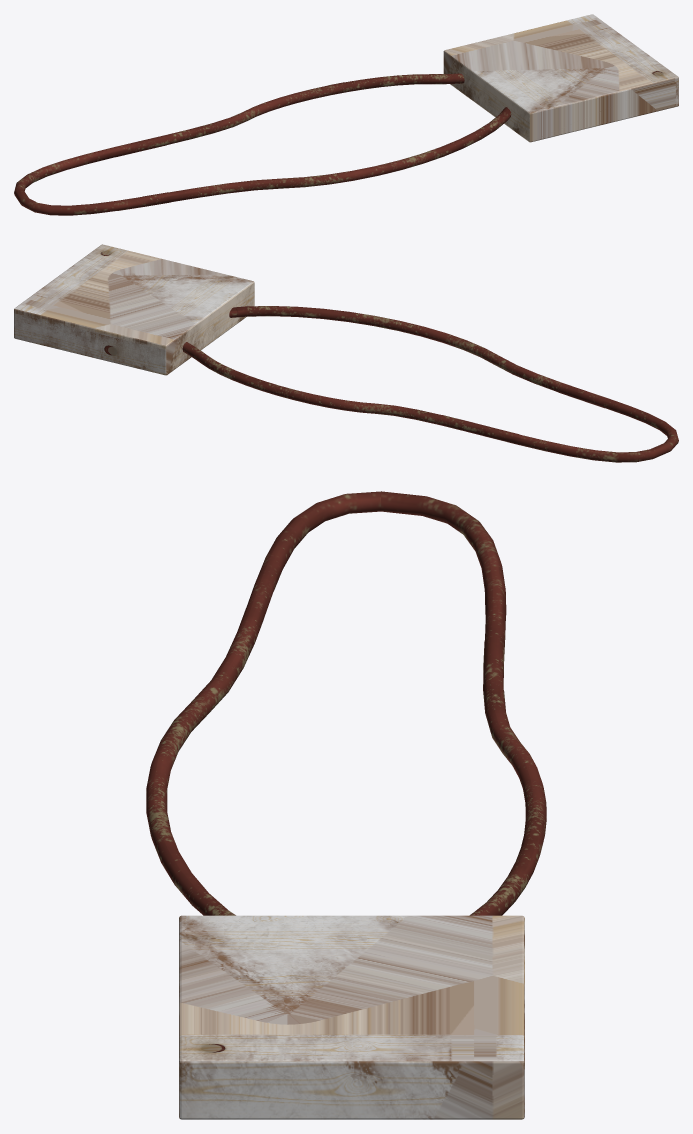
The model's file is talisman_carr_.fbx.
The picture shows the model from 3 angles, top to bottom: view 1: azimuth 30°, elevation 25°; view 2: azimuth 150°, elevation 25°; view 3: azimuth 270°, elevation 25°; orthographic projection. The views are drawn at different scales.
Parts seen in each view (by area): view 1: talisman carré; view 2: talisman carré; view 3: talisman carré.
Boxes of the visible parts, bbox=[...] form: talisman carré: bbox=[14, 14, 678, 215]; talisman carré: bbox=[14, 244, 678, 462]; talisman carré: bbox=[146, 491, 546, 1119].
Bounding box in the file's own units: 71.3 × 3.34 × 20.34.
